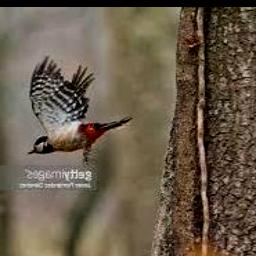Woodpecker: (28, 55, 133, 163)
